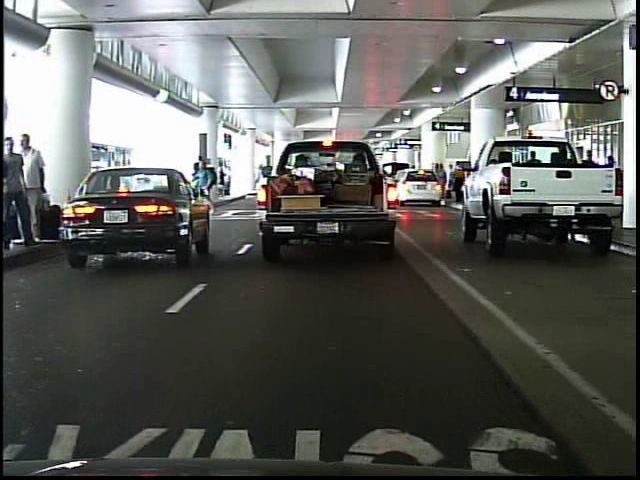person: (18, 132, 48, 250), (7, 136, 32, 250), (188, 152, 221, 223)
